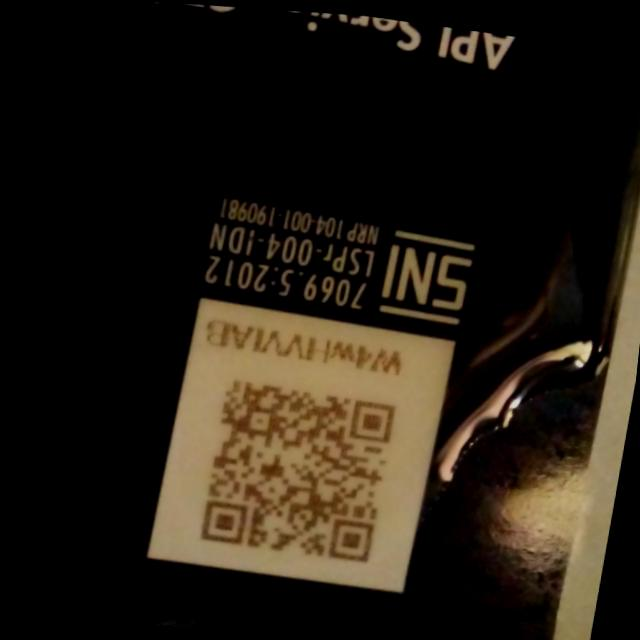QRCode: (184, 354, 404, 580)
